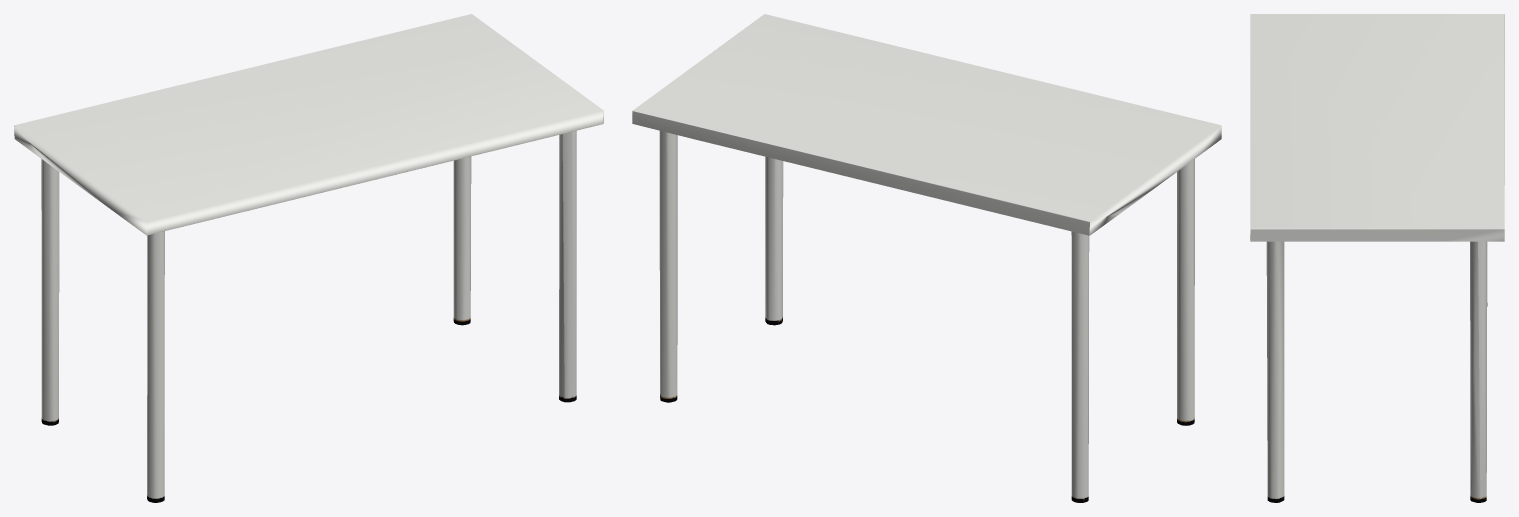
Rendered from table2.fbx.
3 views of the same model, side by side, from view 1: azimuth 30°, elevation 25°; view 2: azimuth 150°, elevation 25°; view 3: azimuth 270°, elevation 25° (orthographic). The views are drawn at different scales.
Parts seen in each view (by area): view 1: LAGKAPTEN / ADILS_294.167.58; view 2: LAGKAPTEN / ADILS_294.167.58; view 3: LAGKAPTEN / ADILS_294.167.58.
Boxes of the visible parts, bbox=[...] form: LAGKAPTEN / ADILS_294.167.58: bbox=[14, 14, 603, 502]; LAGKAPTEN / ADILS_294.167.58: bbox=[632, 14, 1221, 502]; LAGKAPTEN / ADILS_294.167.58: bbox=[1250, 14, 1504, 502].
Size of the model in its own units: 120 by 73.45 by 60.03.
Materials: 1 (1 with a texture image).
